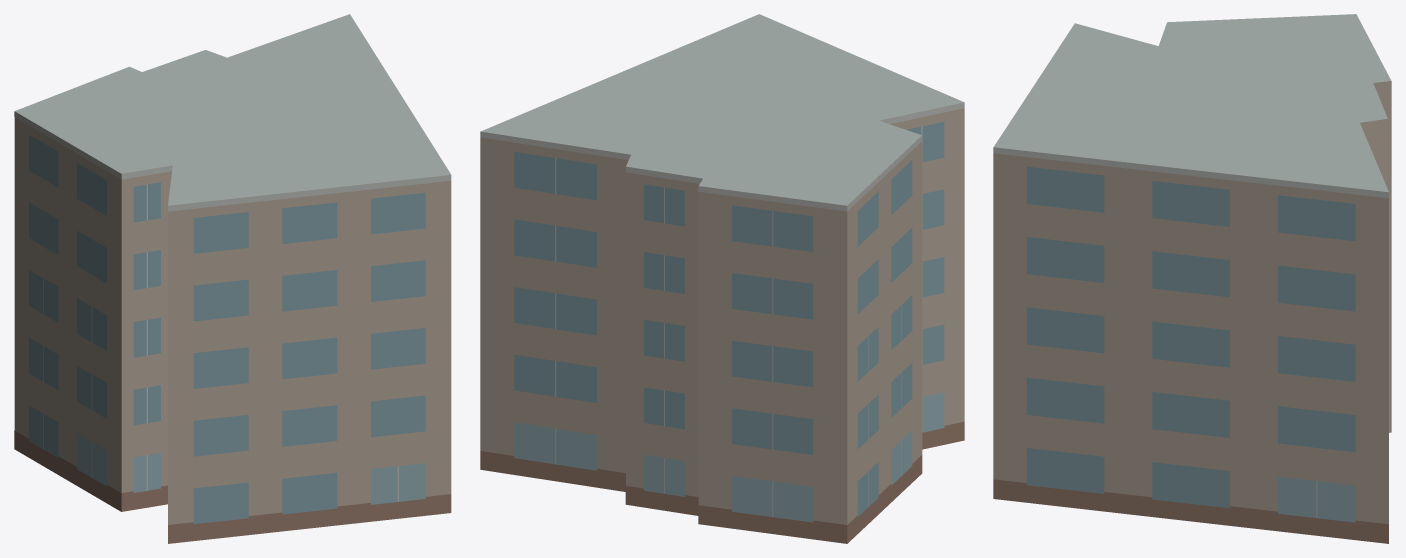
The model's file is survey-upis-32598941.glb.
The picture shows the model from 3 angles, left to right: view 1: azimuth 30°, elevation 25°; view 2: azimuth 150°, elevation 25°; view 3: azimuth 270°, elevation 25°; orthographic projection. The views are drawn at different scales.
Parts seen in each view (by area): view 1: survey-upis-32598941.tmp; view 2: survey-upis-32598941.tmp; view 3: survey-upis-32598941.tmp.
Part boxes in pixels (bbox=[...]): survey-upis-32598941.tmp: bbox=[14, 14, 451, 543]; survey-upis-32598941.tmp: bbox=[480, 14, 964, 543]; survey-upis-32598941.tmp: bbox=[993, 14, 1391, 543].
Bounding box in the file's own units: 15.45 × 14.2 × 14.58.
